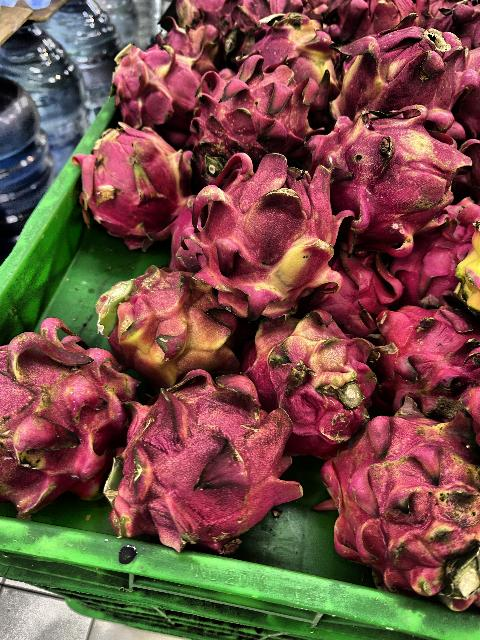buah-naga-belum-matang: (320, 407, 480, 605), (0, 311, 130, 531), (187, 150, 329, 308), (314, 110, 470, 236), (244, 309, 370, 431), (104, 266, 238, 374), (332, 21, 464, 110), (80, 122, 184, 232), (107, 46, 207, 136), (236, 9, 342, 92), (464, 238, 480, 310)
buah-naga-matang: (115, 372, 305, 556), (374, 294, 480, 412), (320, 242, 387, 330), (396, 222, 463, 298), (151, 18, 221, 72)
